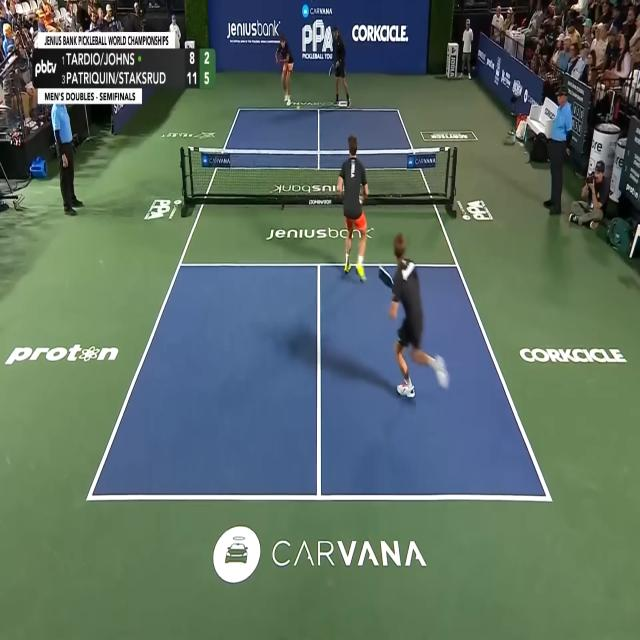ball: (296, 105, 301, 110)
